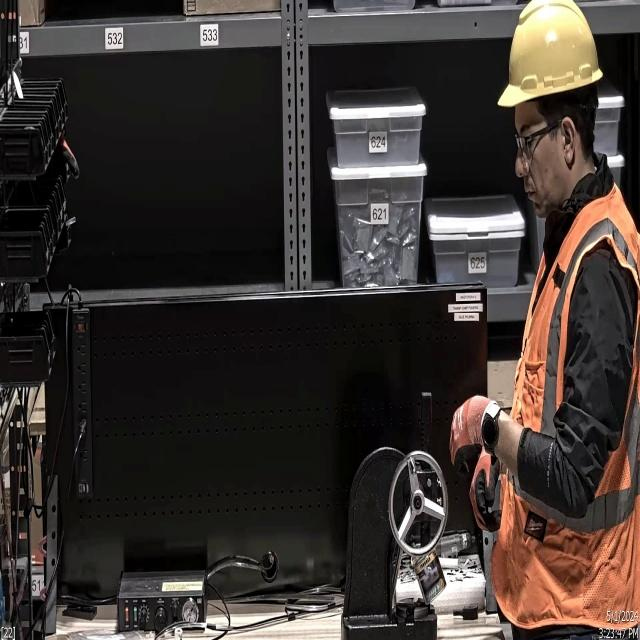construction-gloves: (446, 393, 486, 476)
